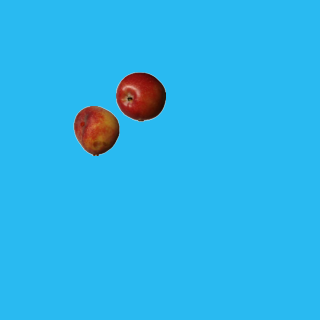Apple Braeburn: (115, 71, 165, 121)
Peach: (71, 105, 121, 155)
